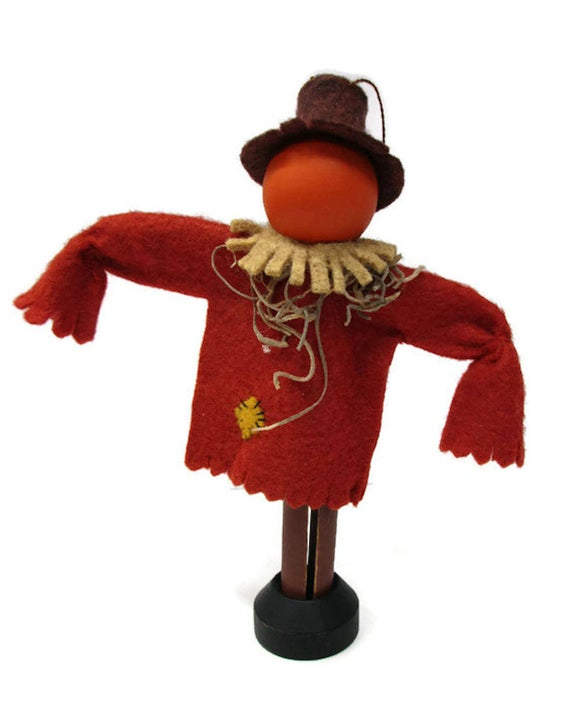person-like: (12, 68, 533, 604)
